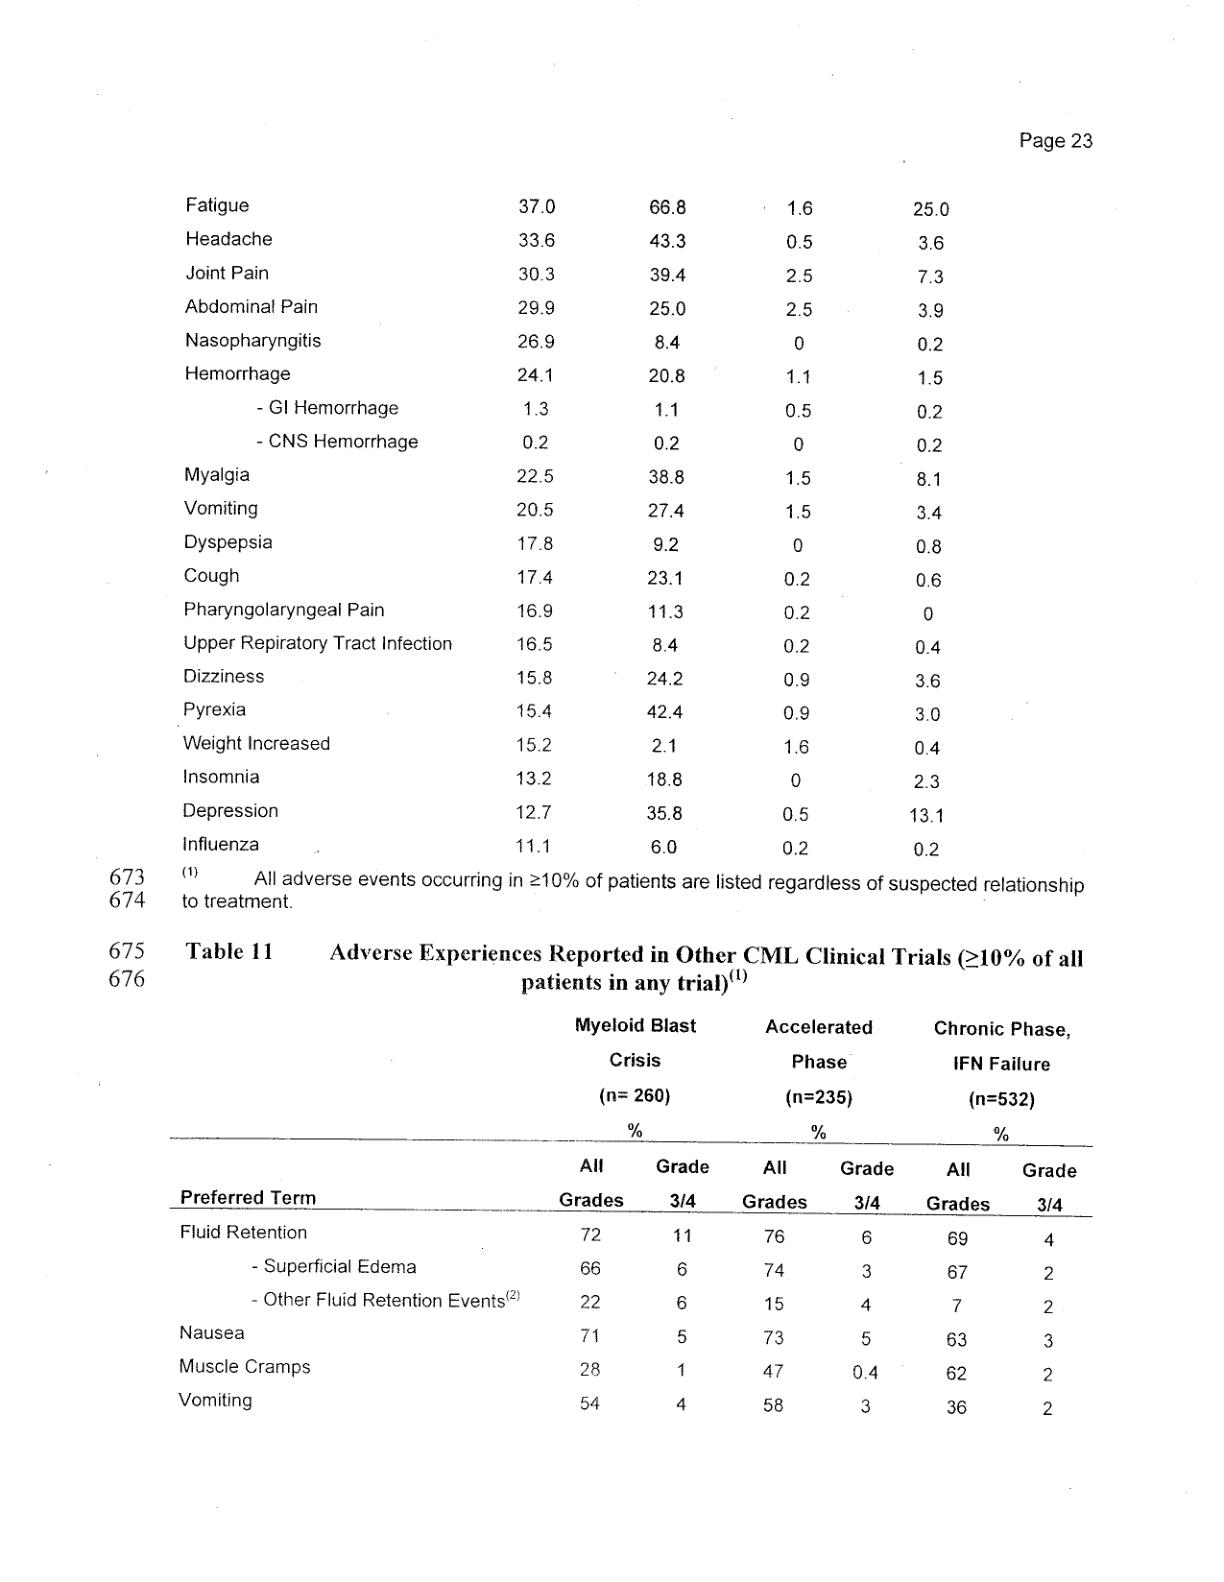nolines: (176, 190, 949, 862)
partial_lined_merged_cells: (170, 1008, 1094, 1420)
